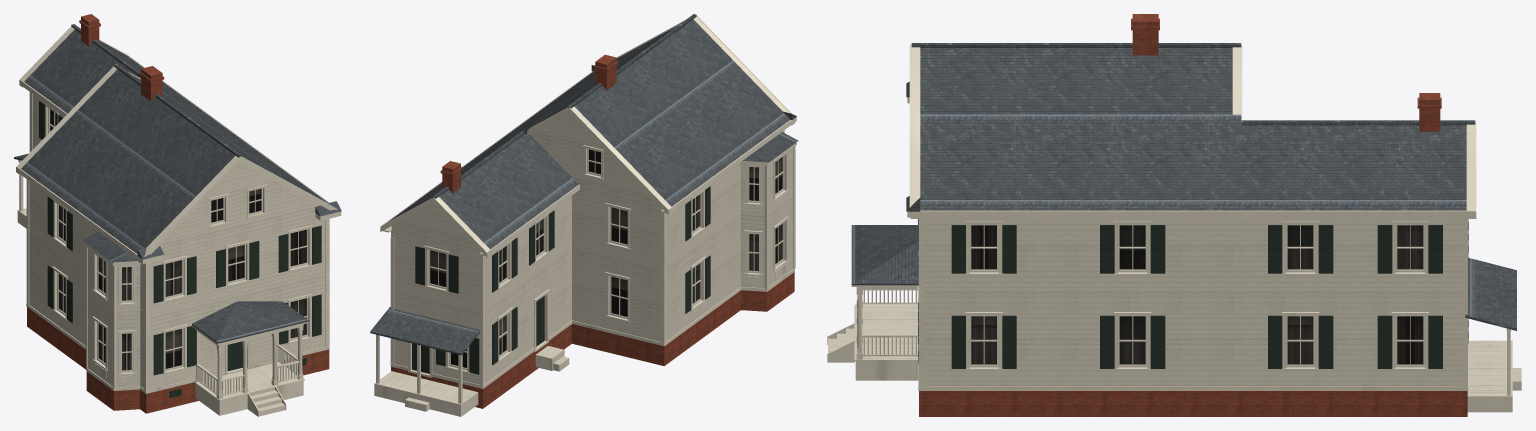
The model's file is house-65-main.glb.
3 views of the same model, side by side, from view 1: azimuth 30°, elevation 25°; view 2: azimuth 150°, elevation 25°; view 3: azimuth 270°, elevation 25° (orthographic). The views are drawn at different scales.
Visible parts, largest first — view 1: House65Main; view 2: House65Main; view 3: House65Main.
Part boxes in pixels (x1,y1,x2,y2): House65Main: (14, 14, 341, 416); House65Main: (370, 14, 798, 416); House65Main: (827, 14, 1521, 416).
Bounding box in the file's own units: 10.16 × 11.63 × 21.51.
6 materials, 4 textured.
